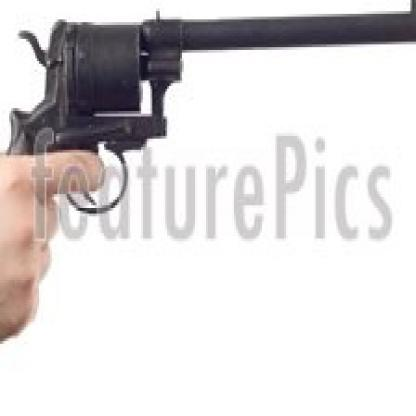gun: (0, 0, 414, 280)
